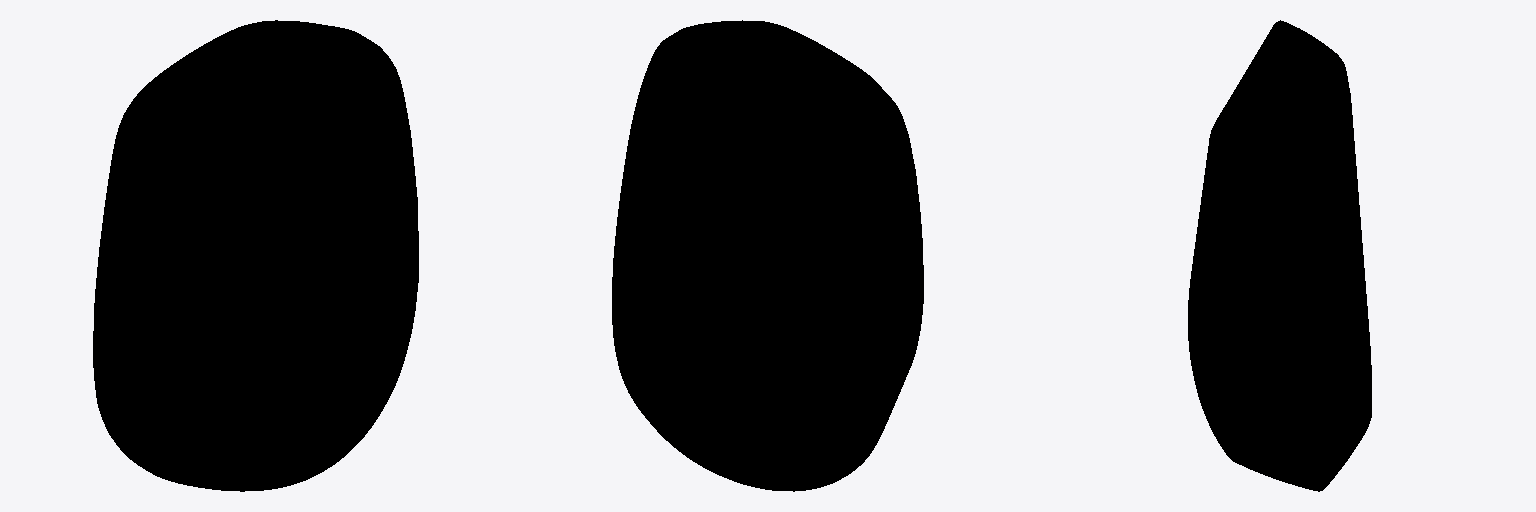
URDF robot description (graspnet-060):

<robot name="graspnet-060">
  <link name="link_graspnet-060">
    <inertial>
      <origin xyz="0 0 0" rpy="0 0 0"/>
    </inertial>
    <visual>
      <origin xyz="0 0 0" rpy="0 0 0"/>
      <geometry>
        <mesh filename="decomposed.obj"/>
      </geometry>
      <material name="">
        <color rgba="0 0 0 1"/>
      </material>
    </visual>
    <collision>
      <origin xyz="0 0 0" rpy="0 0 0"/>
      <geometry>
        <mesh filename="decomposed.obj"/>
      </geometry>
    </collision>
  </link>
</robot>

--- Facts derived from the render (not from the file) ---
Views: 3 orthographic renders of the robot side by side, from view 1: azimuth 30°, elevation 25°; view 2: azimuth 150°, elevation 25°; view 3: azimuth 270°, elevation 25°.
Model graspnet-060 with 1 links and 0 joints (none), rooted at link_graspnet-060, posed every joint at zero.
Links seen in each view (by area): view 1: link_graspnet-060; view 2: link_graspnet-060; view 3: link_graspnet-060.
Link boxes in pixels (bbox=[...]): link_graspnet-060: bbox=[93, 20, 418, 491]; link_graspnet-060: bbox=[612, 20, 923, 491]; link_graspnet-060: bbox=[1188, 20, 1371, 491].
Size in the robot's own frame: 0.0624 by 0.0373 by 0.0982 metres.
Meshes: 1 distinct files referenced, 1 mesh visuals loaded (1 OBJ).
